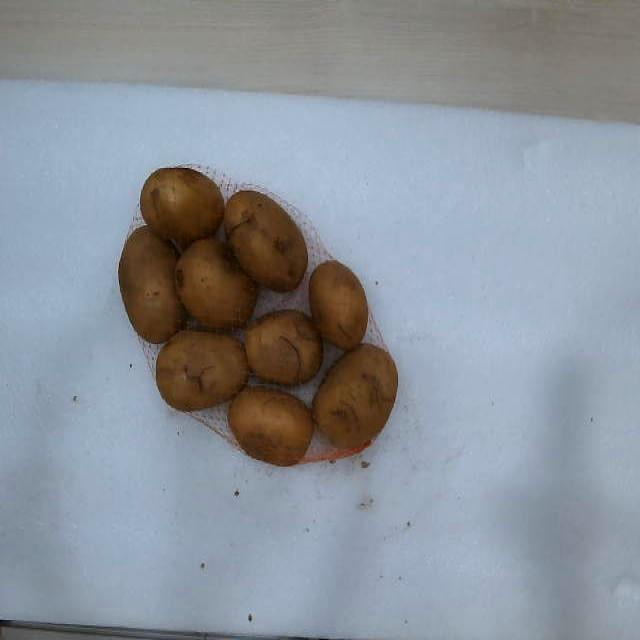potato: (312, 343, 398, 448), (224, 193, 308, 292), (119, 227, 185, 342), (156, 330, 248, 411), (176, 238, 256, 328), (140, 168, 225, 248), (229, 387, 314, 466), (245, 310, 322, 384), (309, 260, 366, 350)
